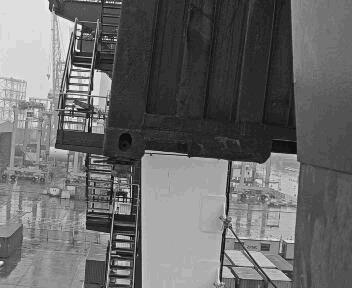twist_lock_1: (113, 256, 156, 284)
